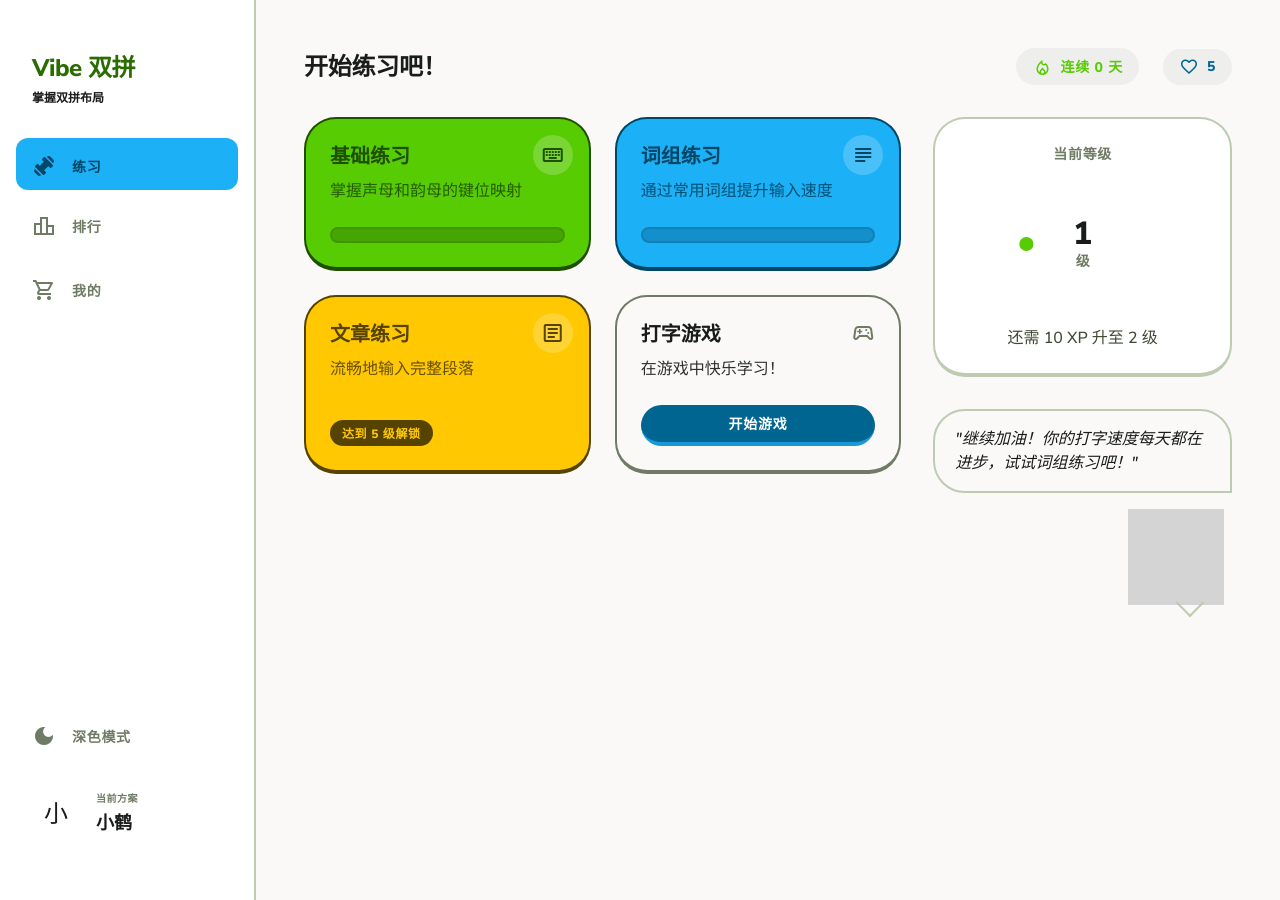
Test: App › starts basic exercise directly when clicking 基础练习 card
This screenshot has width=1280, height=900.
Click the heading "基础练习" at (370, 157), box left=330, top=143, right=410, bottom=171
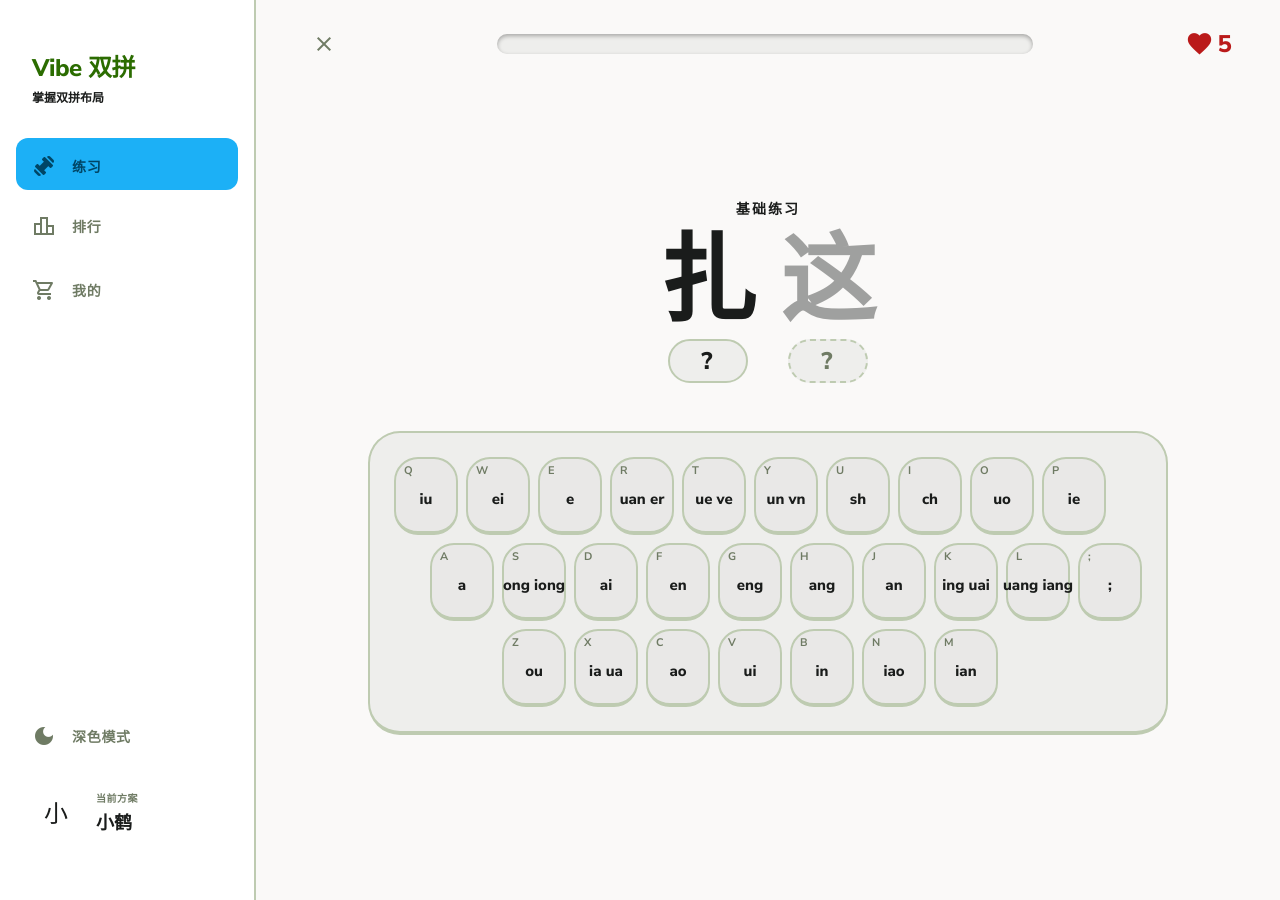
Result: the element named "输入双拼编码" is shown
